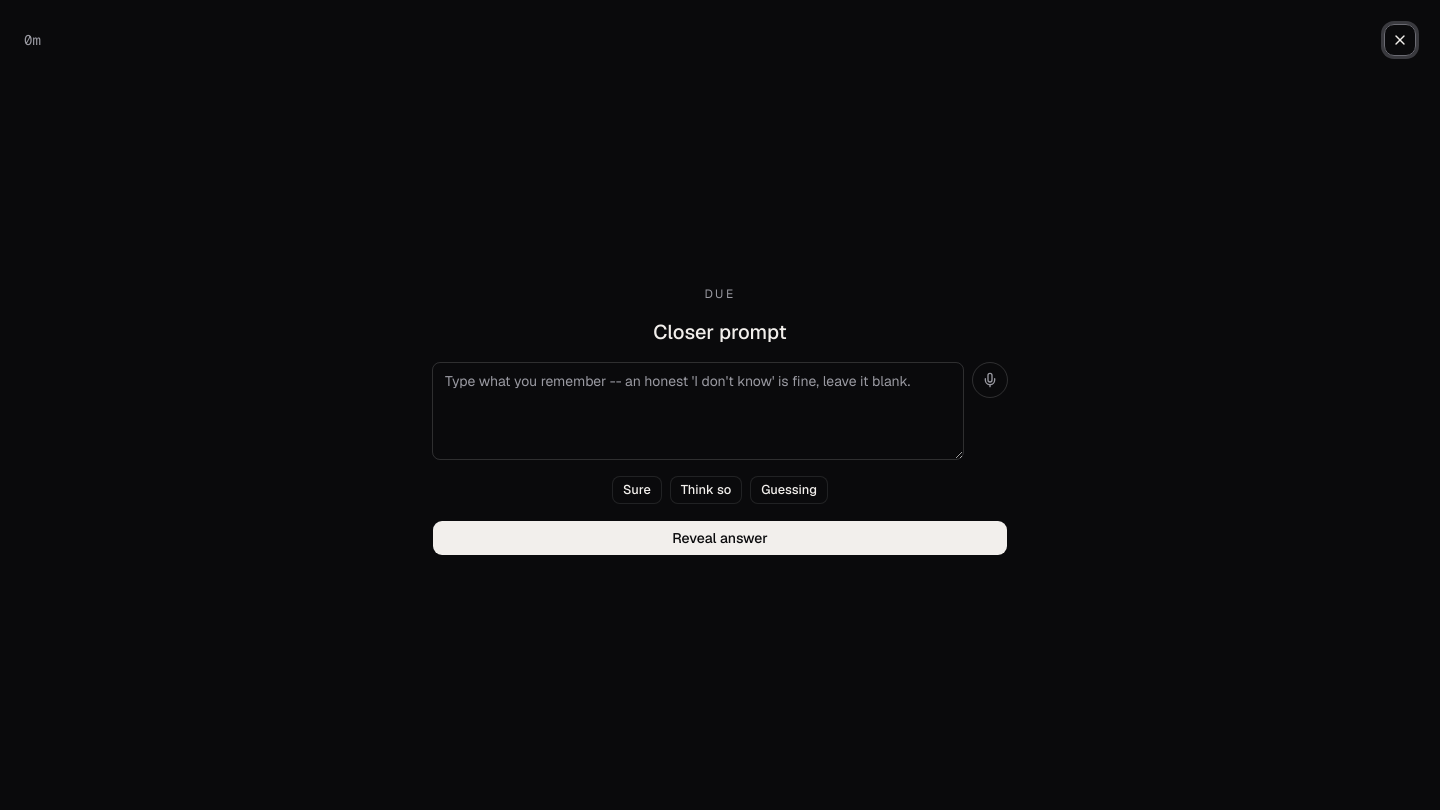
Test: RetrievalSessionOverlay › an agent-written day connection shows its source line
Expected: the text "Closer prompt" is shown, [653,319,787,345]
What coordinates should you click on to do the following:
click the button "Reveal answer"
I would click on:
 (720, 538)
Its box is [432,520,1008,556].
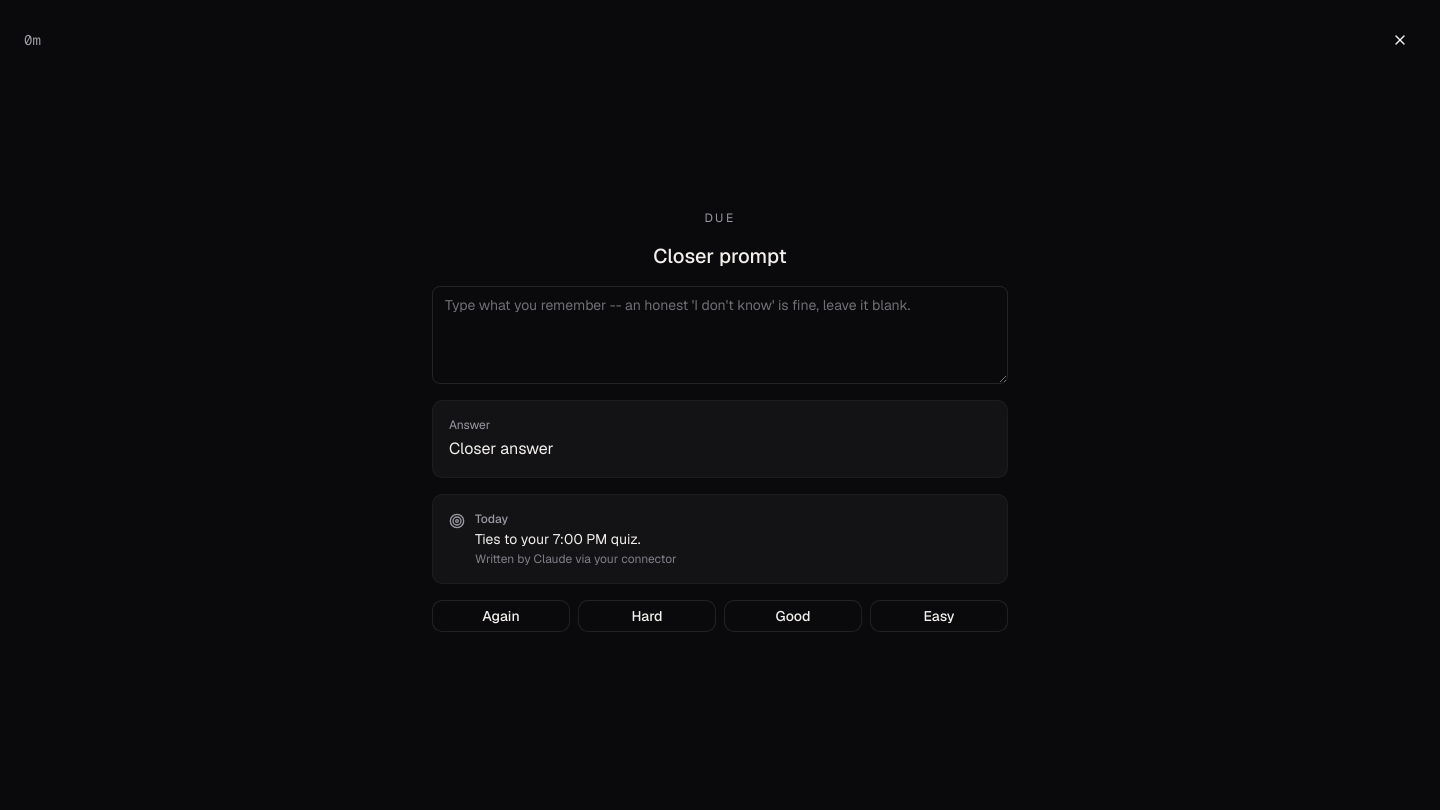
Result: the text "Ties to your 7:00 PM quiz." is shown at [475,530,641,548]
Result: the text with test id "day-connection-source" reads "Written by Claude via your connector" at [475,551,677,567]
